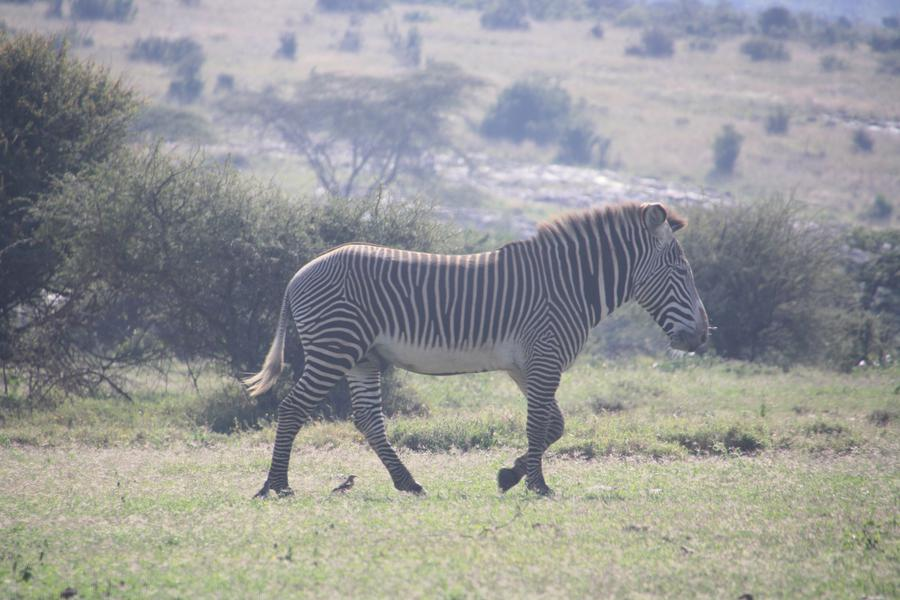zebra_grevys: (284, 236, 575, 373)
